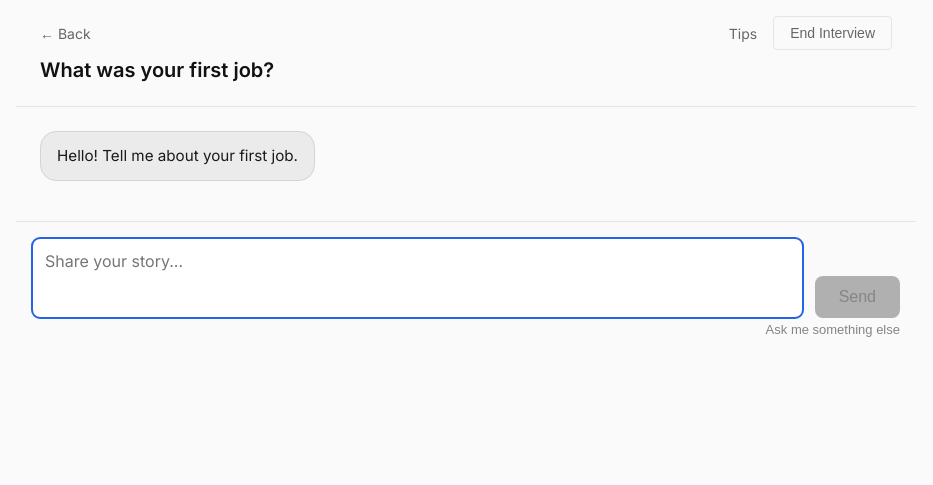
InterviewSession › shows ASSISTANT response after streaming completes
Type "I worked there for two years." into the text box with placeholder "Share your story...". click: (417, 278)
box: 32,238 -> 803,318
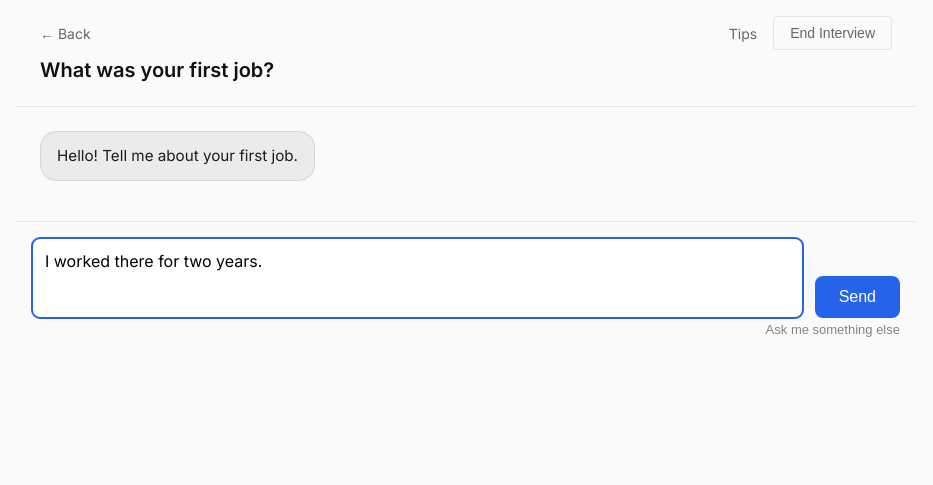
Click the button "Send". click: (857, 297)
box: 815,276 -> 900,318
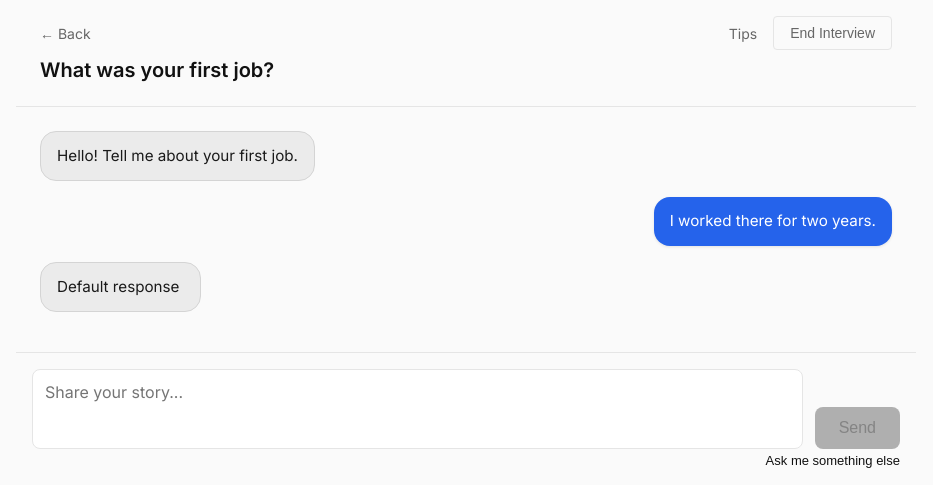
Expected: the text "Default response" is shown, 40,262 -> 201,312
